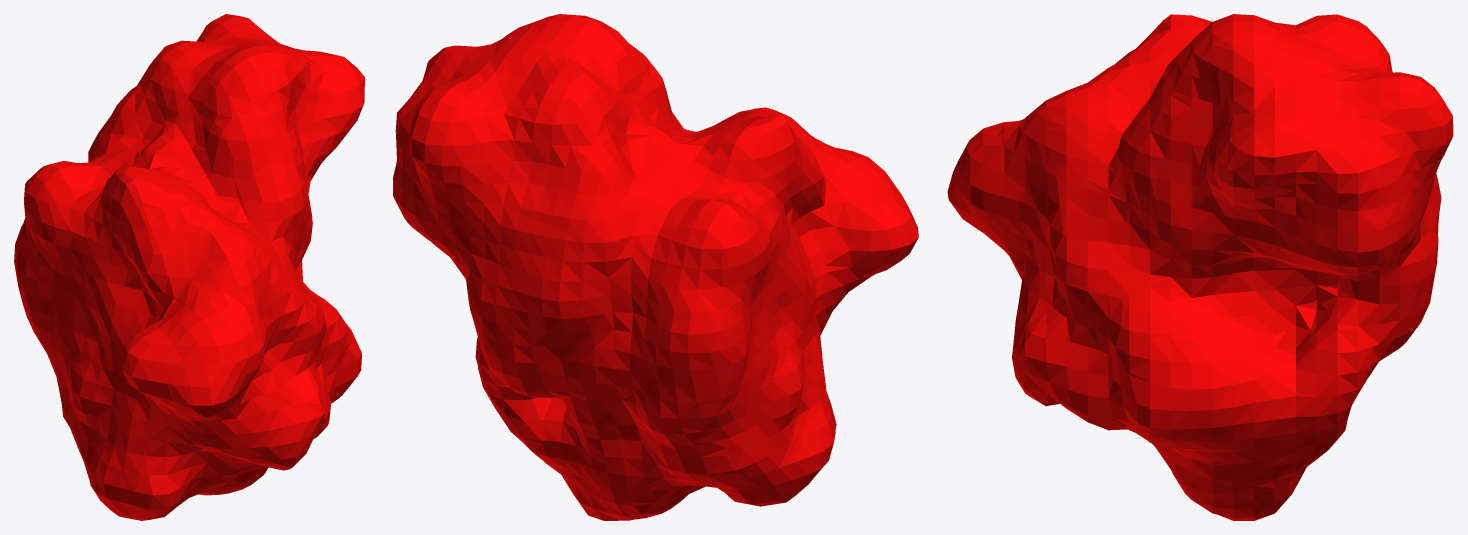
File: sdaB_coarse.dae
3 renders of one model, left to right at view 1: azimuth 30°, elevation 25°; view 2: azimuth 150°, elevation 25°; view 3: azimuth 270°, elevation 25°, orthographic. The views are drawn at different scales.
Visible parts, largest first — view 1: sdaB; view 2: sdaB; view 3: sdaB.
Part boxes in pixels (<box>): sdaB: <box>14,14,364,520</box>; sdaB: <box>393,14,918,520</box>; sdaB: <box>947,14,1453,520</box>.
Size of the model in its own units: 57.87 by 71.84 by 63.68.
